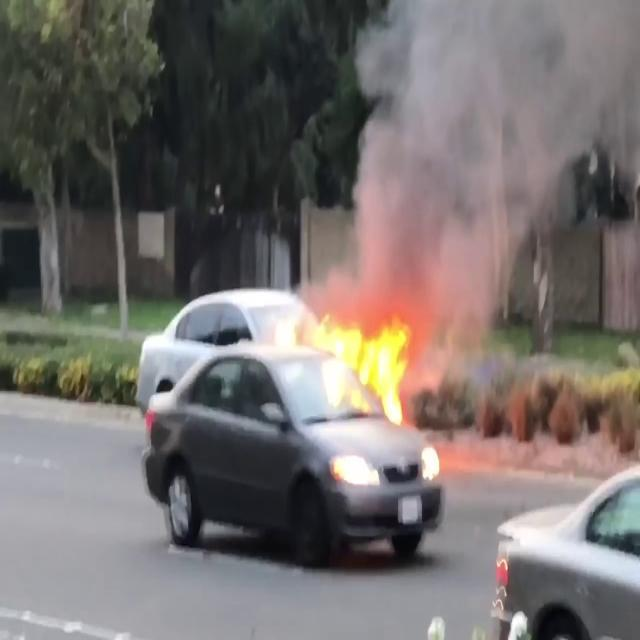Fire: (285, 296, 418, 423), (418, 440, 444, 484)
Smoke: (340, 1, 638, 297)
